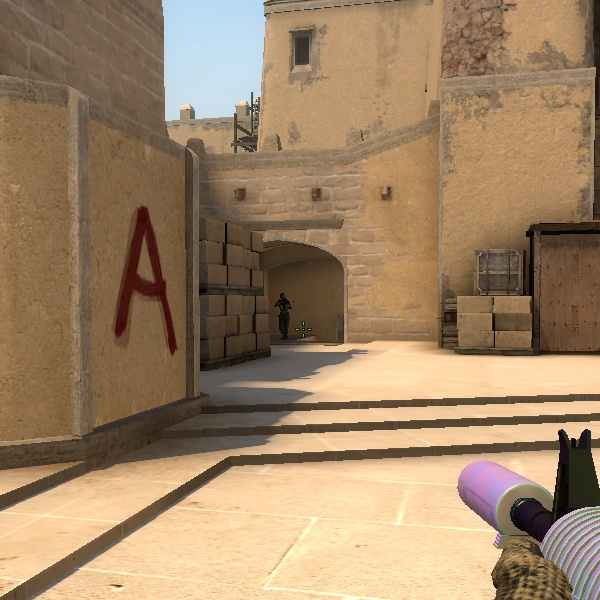t_body: (270, 288, 298, 341)
t_head: (278, 292, 288, 302)
